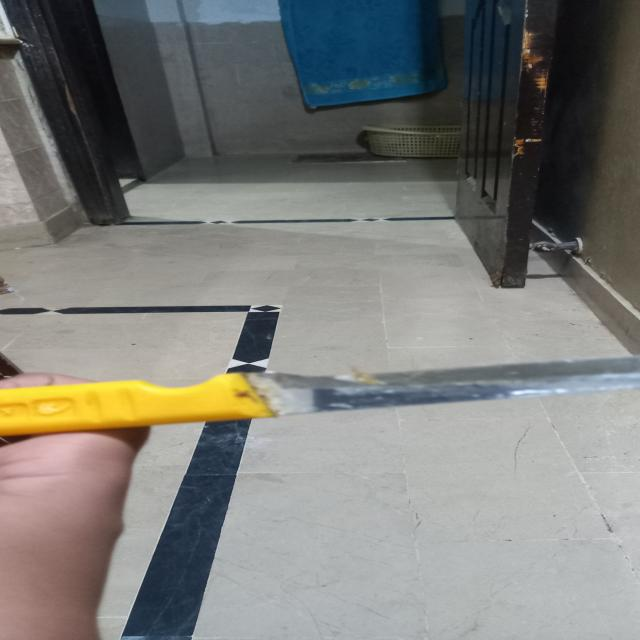Knife: (0, 348, 640, 450)
